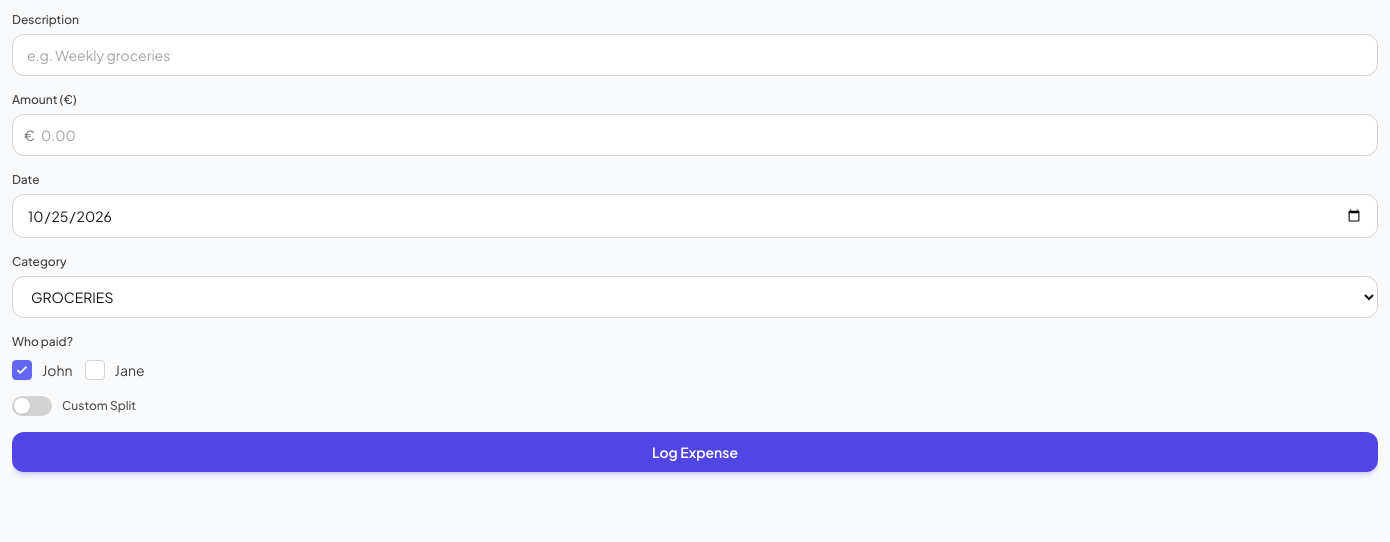
it: ExpenseForm.svelte — Expense Creation Form › displays lock indicator when expense date is in a settled month (2026-05-15)
Type "2026-05-15" into the date field labelled "Date". click: (695, 216)
box: [12,194,1378,238]
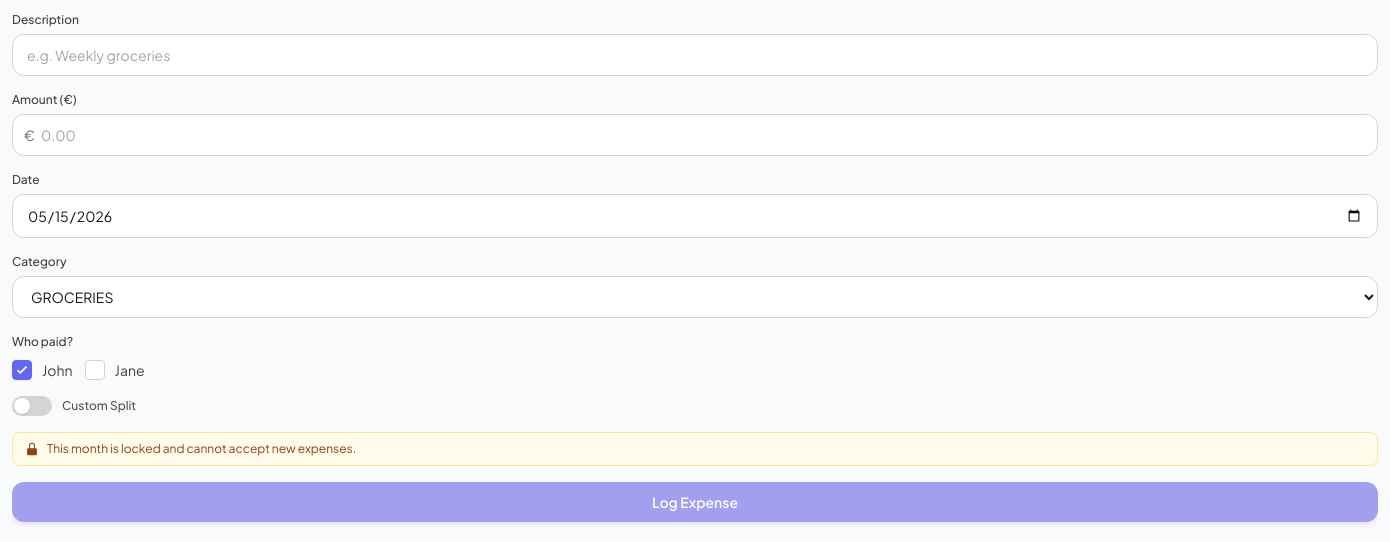
Now the text "This month is locked and cannot accept new expenses." is shown, box [12,432,1378,466]
